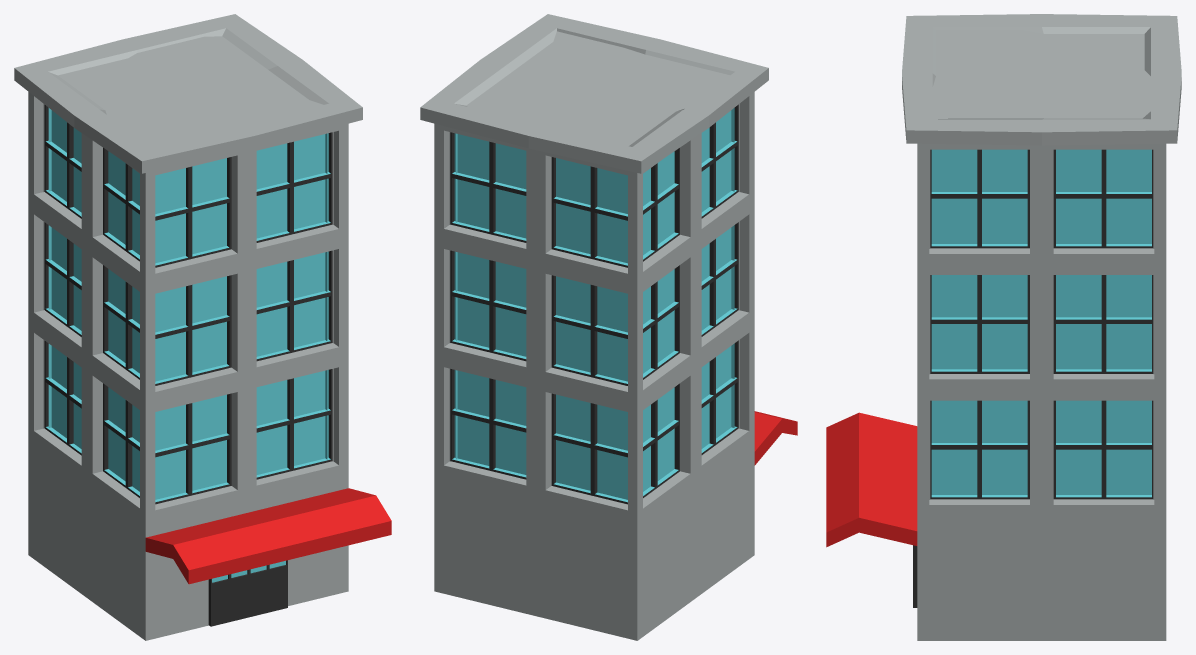
File: Building blend Grey.fbx
3 renders of one model, left to right at view 1: azimuth 30°, elevation 25°; view 2: azimuth 150°, elevation 25°; view 3: azimuth 270°, elevation 25°, orthographic. The views are drawn at different scales.
Visible parts, largest first — view 1: Cube.004, Plane.002; view 2: Cube.004; view 3: Cube.004.
Boxes of the visible parts, bbox=[...] form: Cube.004: bbox=[14, 14, 391, 640]; Plane.002: bbox=[208, 560, 287, 626]; Cube.004: bbox=[420, 14, 797, 640]; Cube.004: bbox=[826, 14, 1181, 640].
Size of the model in its own units: 1701 by 3454 by 2161.
